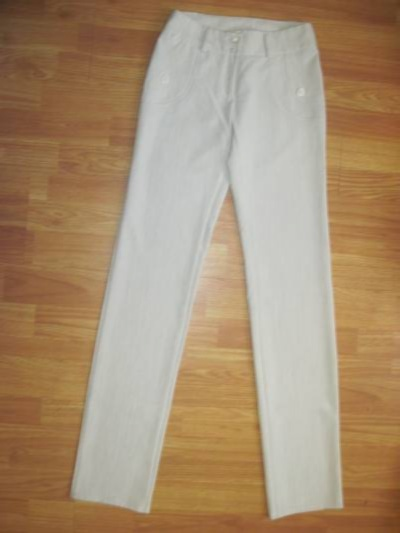Pants: (63, 9, 351, 520)
